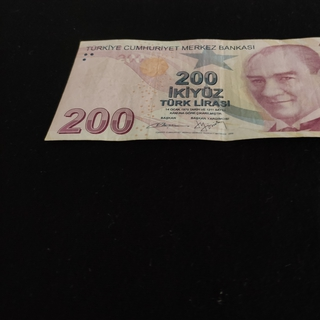200TLFront: (43, 36, 320, 141)
